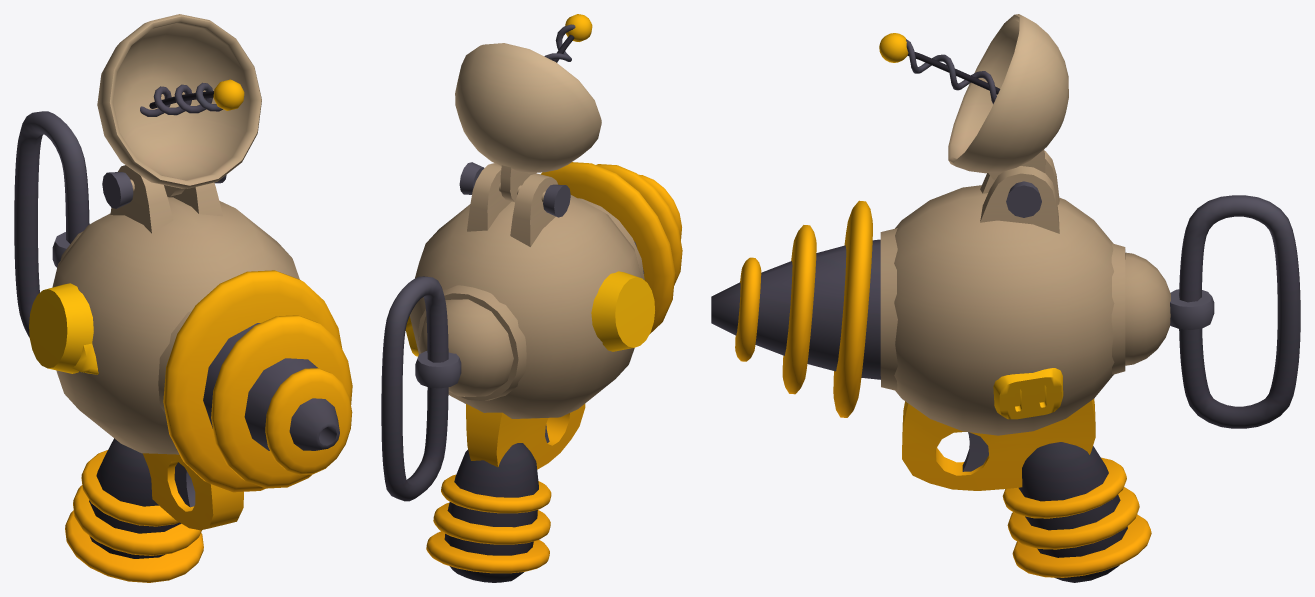
Rendered from alien_Blaster3.fbx.
3 renders of one model, left to right at view 1: azimuth 30°, elevation 25°; view 2: azimuth 150°, elevation 25°; view 3: azimuth 270°, elevation 25°, orthographic. The views are drawn at different scales.
Visible parts, largest first — view 1: pCube6_low1; view 2: pCube6_low1; view 3: pCube6_low1.
Boxes of the visible parts, <box> form: pCube6_low1: <box>14,14,352,582</box>; pCube6_low1: <box>381,14,682,582</box>; pCube6_low1: <box>711,14,1300,582</box>.
Size of the model in its own units: 2.56 by 5.65 by 5.47.
Materials: 1 (1 with a texture image).
